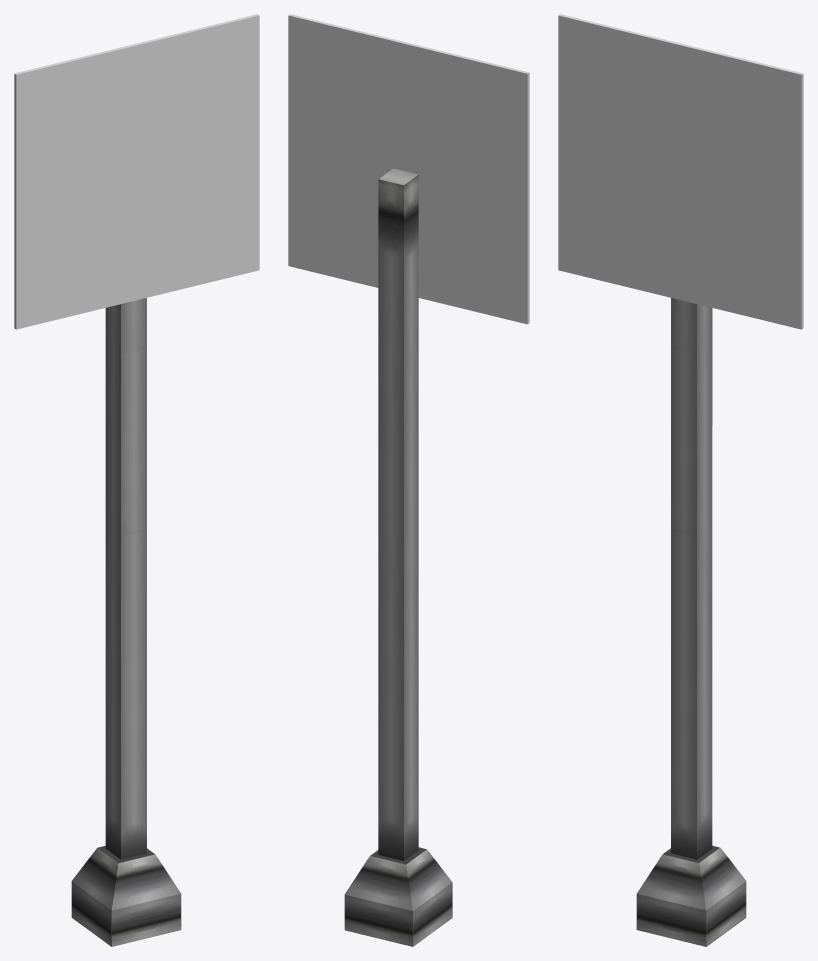
The model's file is signal.fbx.
3 views of the same model, side by side, from view 1: azimuth 30°, elevation 25°; view 2: azimuth 150°, elevation 25°; view 3: azimuth 330°, elevation 25° (orthographic).
Parts seen in each view (by area): view 1: Cube.003; view 2: Cube.003; view 3: Cube.003.
Part boxes in pixels (bbox=[...]): Cube.003: bbox=[14, 14, 259, 946]; Cube.003: bbox=[288, 14, 529, 946]; Cube.003: bbox=[558, 14, 803, 946].
Bounding box in the file's own units: 140 × 487 × 40.
3 materials, 2 textured.
